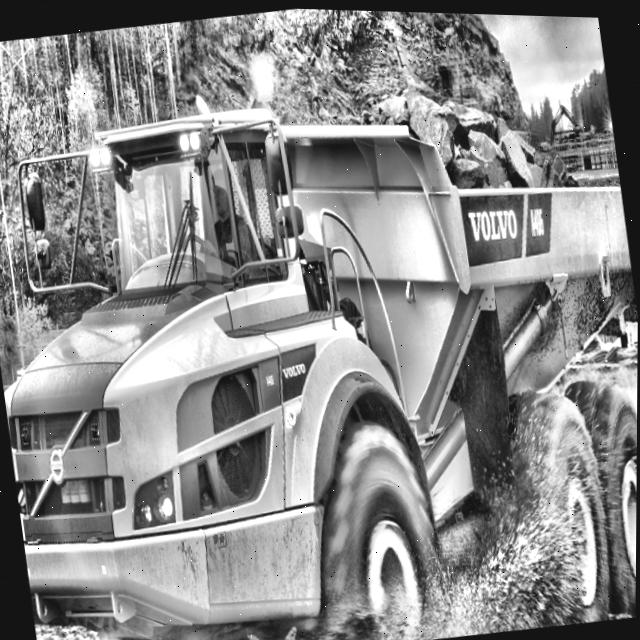dump_truck: (0, 20, 640, 640)
